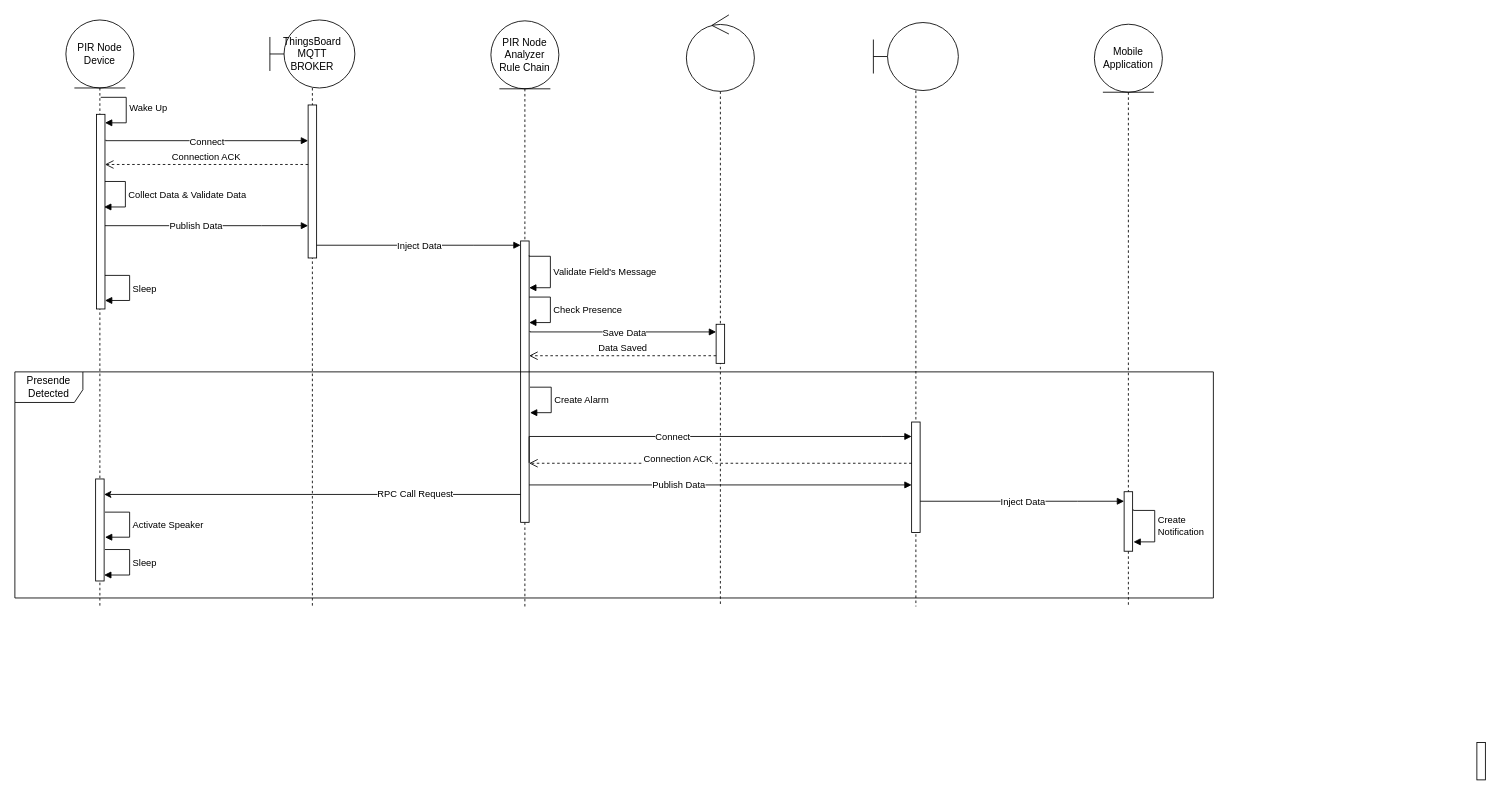
This 1500x795 diagram has some shape labels left out. The box of each missing label's shape, as (x1, y1, x2, y2) in pixels:
ThingsBoard DataBase: (686, 14, 754, 606)
User MQTT BROKER: (873, 22, 958, 606)
